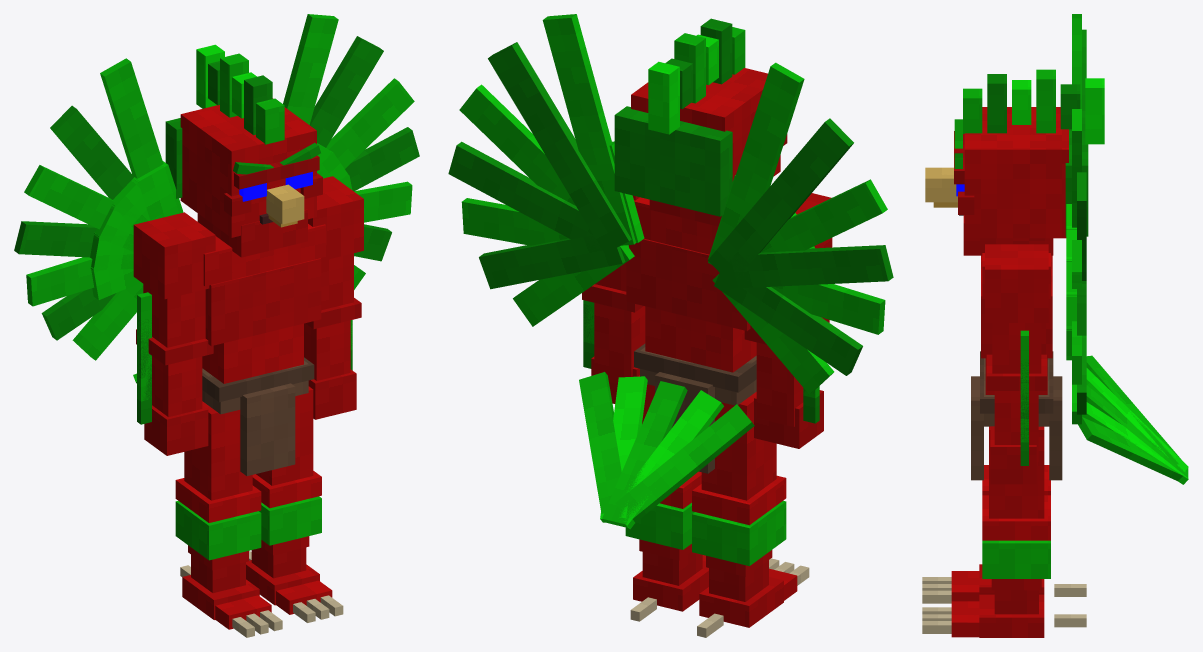
The model's file is harpy_s2.glb.
3 renders of one model, left to right at view 1: azimuth 30°, elevation 25°; view 2: azimuth 150°, elevation 25°; view 3: azimuth 270°, elevation 25°, orthographic. The views are drawn at different scales.
Parts seen in each view (by area): view 1: Torso, Head, ArmR, LegR, LegL, ArmL, Root; view 2: Torso, Head, LegR, LegL, ArmR, ArmL, Root; view 3: Head, Torso, ArmL, LegL, Root, LegR.
Part boxes in pixels (x1=…): Torso: x1=14, y1=14, x2=419, y2=475; Head: x1=165, y1=44, x2=322, y2=257; ArmR: x1=133, y1=212, x2=215, y2=455; LegR: x1=175, y1=401, x2=271, y2=629; LegL: x1=246, y1=386, x2=332, y2=614; ArmL: x1=304, y1=176, x2=363, y2=419; Root: x1=180, y1=550, x2=343, y2=637; Torso: x1=448, y1=14, x2=893, y2=529; Head: x1=614, y1=18, x2=787, y2=226; LegR: x1=692, y1=392, x2=797, y2=627; LegL: x1=625, y1=375, x2=708, y2=611; ArmR: x1=744, y1=193, x2=832, y2=448; ArmL: x1=582, y1=195, x2=645, y2=403; Root: x1=630, y1=558, x2=809, y2=637; Head: x1=925, y1=69, x2=1104, y2=255; Torso: x1=971, y1=14, x2=1188, y2=484; ArmL: x1=985, y1=244, x2=1048, y2=484; LegL: x1=951, y1=426, x2=1050, y2=637; Root: x1=922, y1=577, x2=1086, y2=633; LegR: x1=951, y1=465, x2=1050, y2=601.
Size of the model in its own units: 1.46 by 1.85 by 0.8178.
24 materials, 24 textured.
